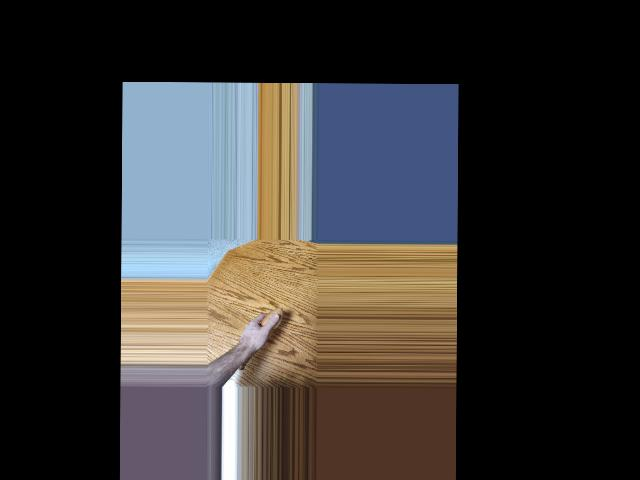sweet_potato: (233, 306, 283, 373)
